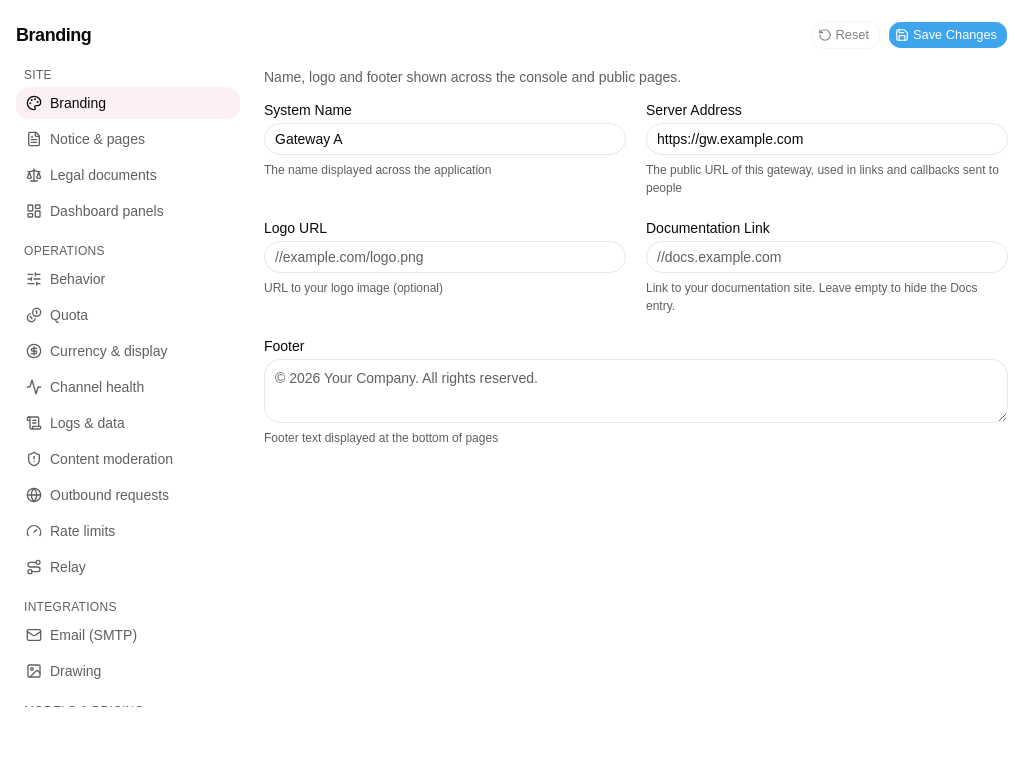
option engine › refuses invalid input before sending anything
Clear the field labelled "System Name" at (445, 139), box 264,123 -> 626,155
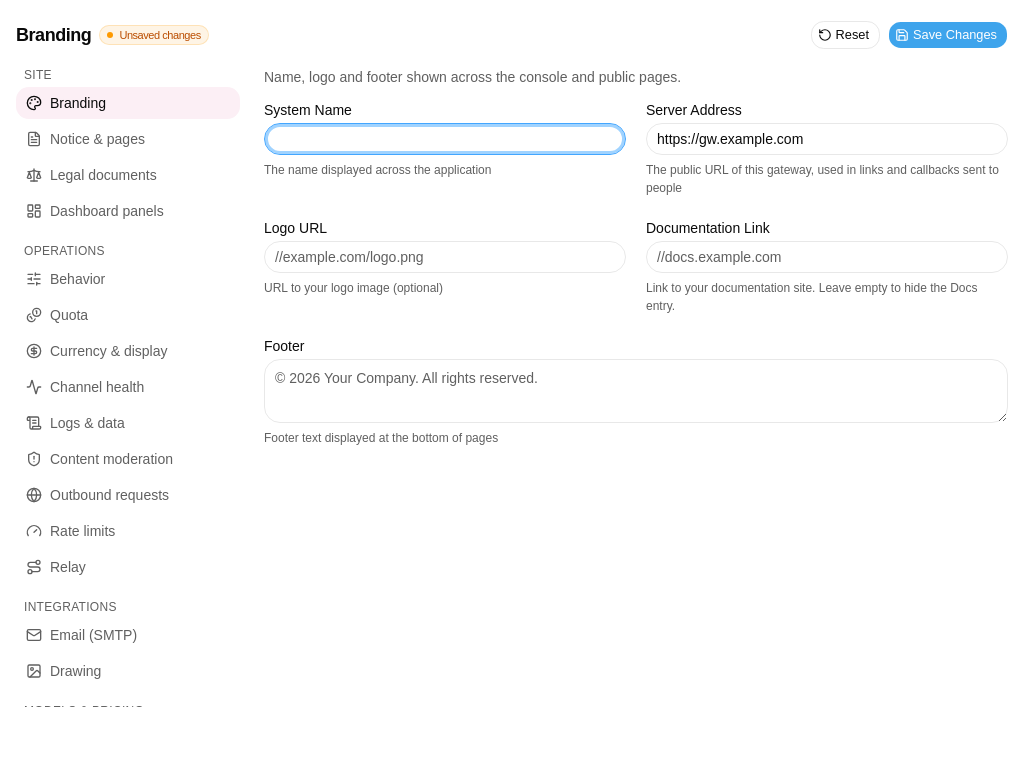
Click the button "Save Changes" at (948, 35), box 888,21 -> 1008,49
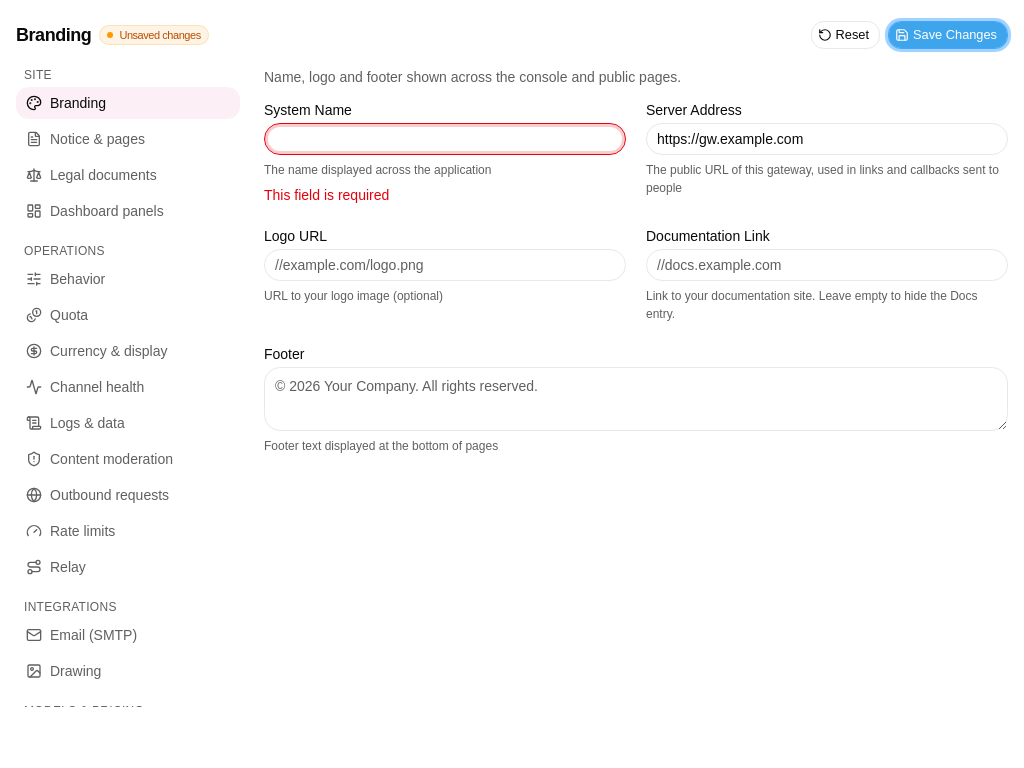
Expected: the text "This field is required" is shown, 264,187 -> 389,203
